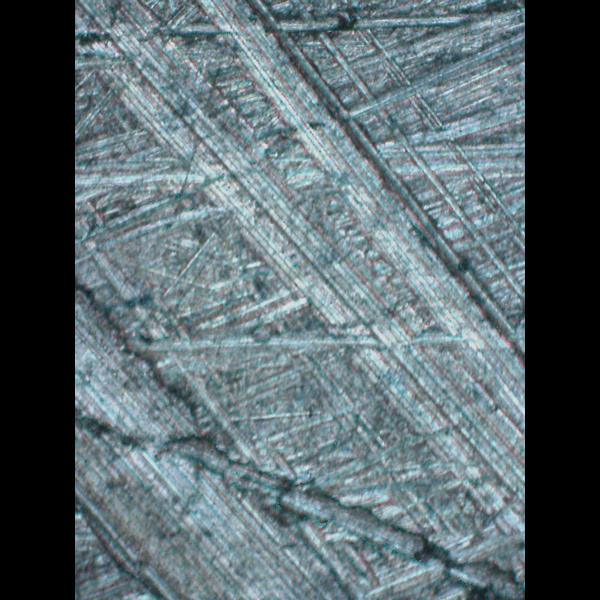d: (75, 0, 523, 546), (75, 264, 358, 597)
